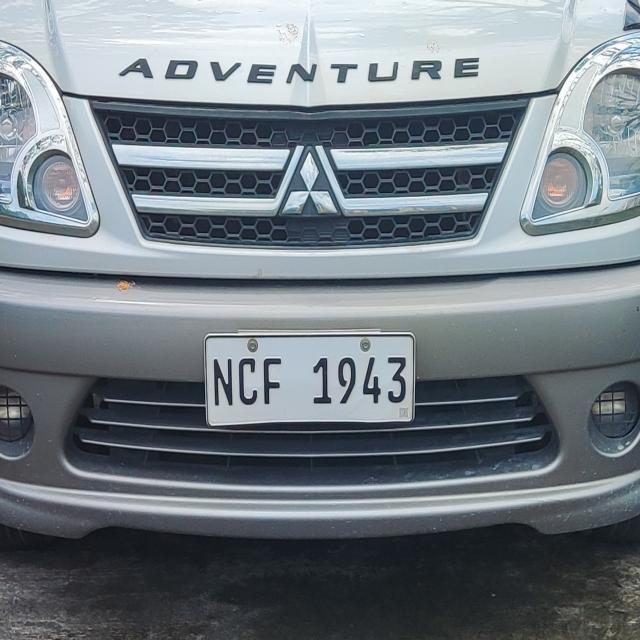LicensePlate: (196, 324, 424, 432)
